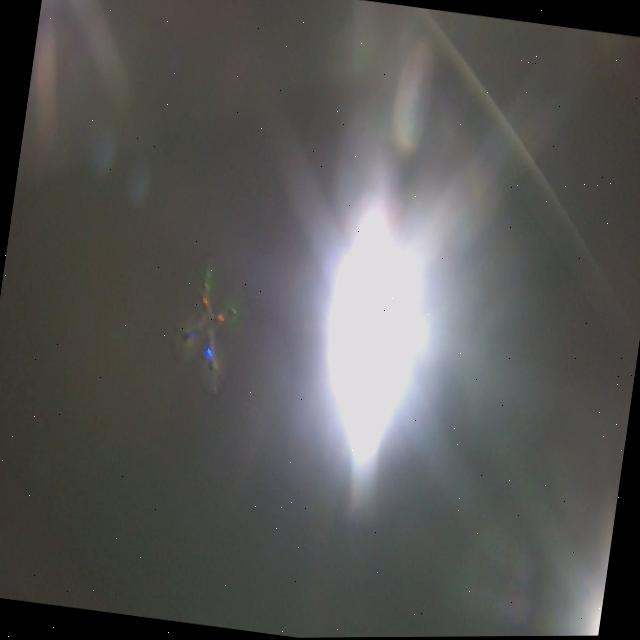drone: (160, 245, 262, 407)
